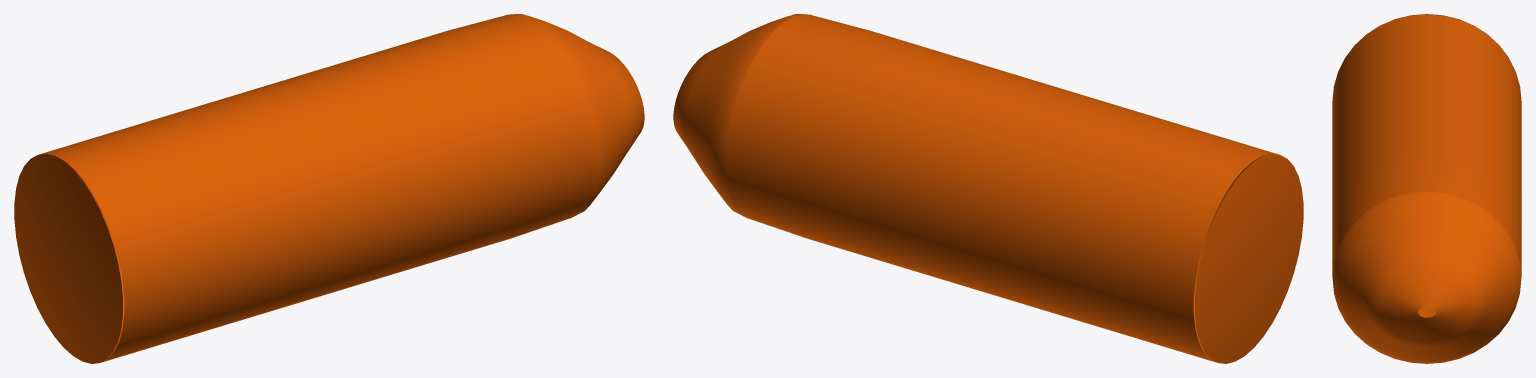
Rendered from misil.fbx.
3 views of the same model, side by side, from view 1: azimuth 30°, elevation 25°; view 2: azimuth 150°, elevation 25°; view 3: azimuth 270°, elevation 25° (orthographic). The views are drawn at different scales.
Visible parts, largest first — view 1: Tanque_de_Petróleo; view 2: Tanque_de_Petróleo; view 3: Tanque_de_Petróleo.
Part boxes in pixels (x1,y1,x2,y2): Tanque_de_Petróleo: (14,14,644,363); Tanque_de_Petróleo: (673,14,1303,363); Tanque_de_Petróleo: (1332,14,1521,363).
Size of the model in its own units: 595 by 221 by 196.
